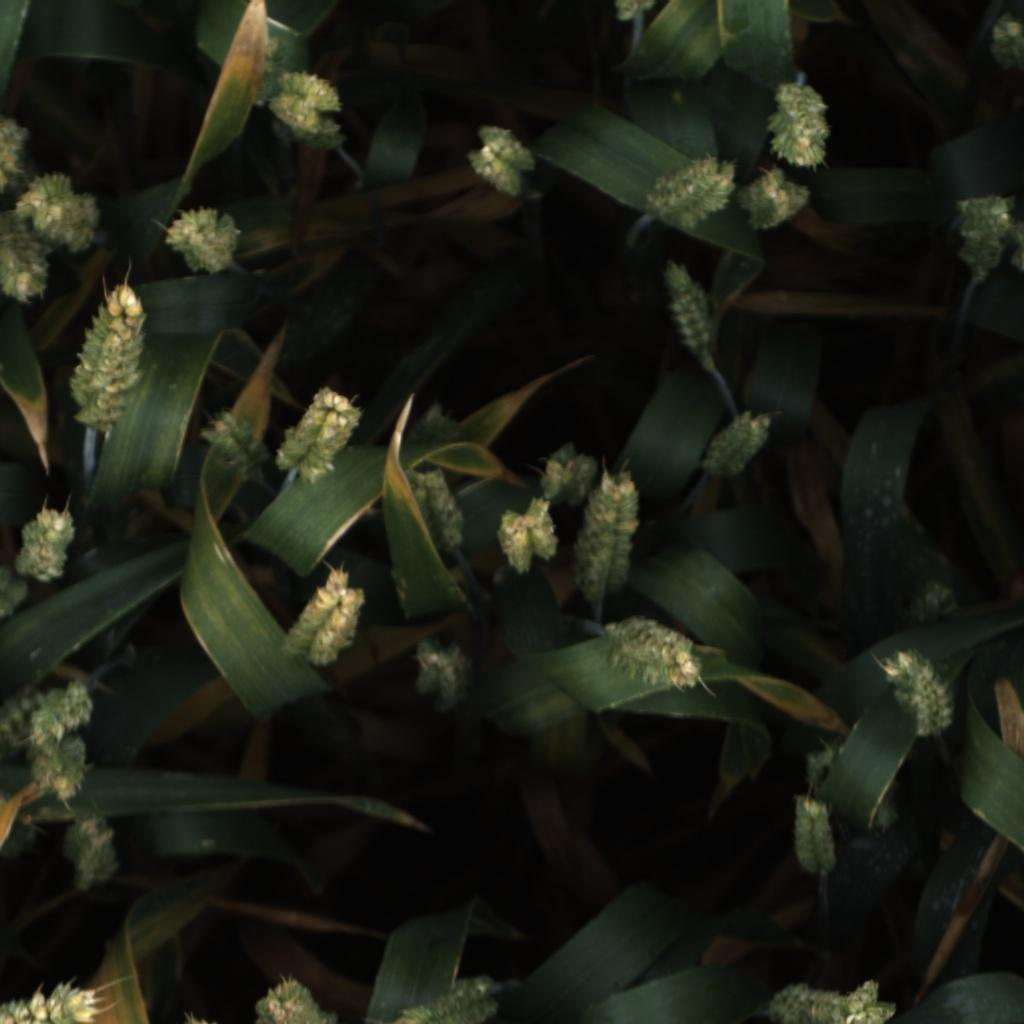0-0: (67, 277, 149, 444), (572, 454, 648, 605), (274, 376, 368, 487), (278, 557, 368, 669), (804, 737, 901, 835), (604, 616, 715, 695), (646, 139, 740, 232), (21, 161, 111, 251), (695, 401, 783, 493), (654, 259, 727, 365), (28, 665, 110, 753), (883, 646, 959, 740), (260, 64, 347, 145), (154, 203, 244, 281), (402, 460, 472, 555), (730, 167, 821, 240), (766, 78, 834, 173), (56, 811, 126, 902), (408, 628, 478, 718), (466, 119, 540, 204), (493, 493, 563, 582), (0, 201, 53, 318), (9, 496, 78, 584), (196, 400, 269, 482), (946, 187, 1015, 272), (784, 790, 845, 881), (248, 967, 345, 1024), (388, 975, 500, 1024), (762, 963, 849, 1024), (32, 730, 99, 803), (0, 978, 99, 1024), (838, 964, 909, 1021), (0, 679, 42, 768), (0, 105, 33, 193), (907, 575, 960, 628), (982, 10, 1024, 71), (0, 561, 29, 623), (613, 1, 659, 23)
